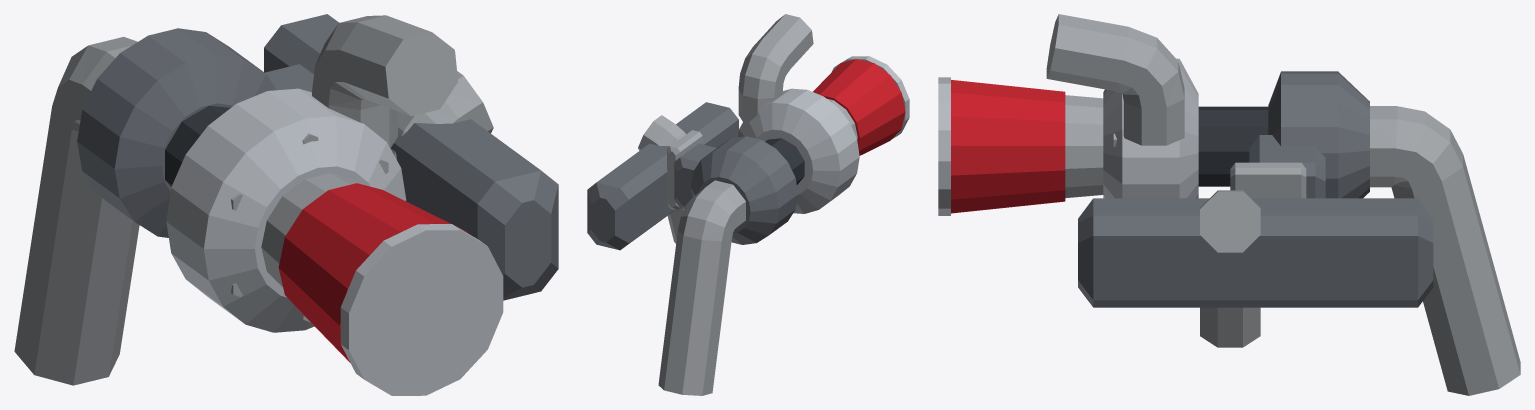
The model's file is hana_roadster.glb.
The picture shows the model from 3 angles, left to right: view 1: azimuth 30°, elevation 25°; view 2: azimuth 150°, elevation 25°; view 3: azimuth 270°, elevation 25°; orthographic projection. The views are drawn at different scales.
Parts seen in each view (by area): view 1: model; view 2: model; view 3: model.
Boxes of the visible parts, x1=… form: model: x1=14, y1=14, x2=558, y2=395; model: x1=587, y1=14, x2=909, y2=395; model: x1=938, y1=14, x2=1520, y2=395.
Size of the model in its own units: 0.2409 by 0.3407 by 0.4587.
Materials: 2 (1 with a texture image).
